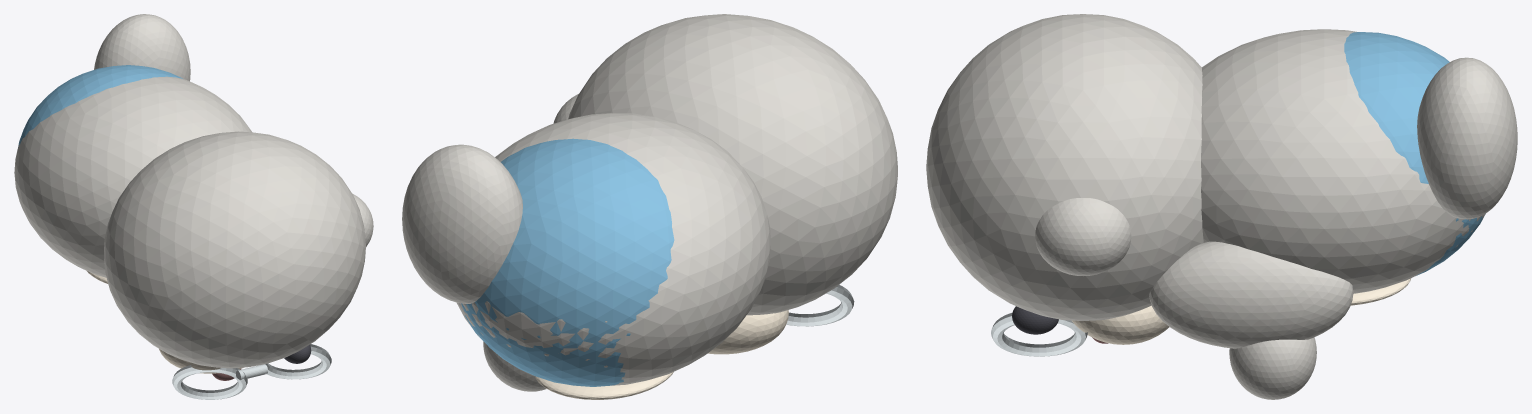
File: nimbus_v1.glb
3 renders of one model, left to right at view 1: azimuth 30°, elevation 25°; view 2: azimuth 150°, elevation 25°; view 3: azimuth 270°, elevation 25°, orthographic. The views are drawn at different scales.
Visible parts, largest first — view 1: Nimbus_head, Nimbus_body, Foot, Blue_racing_suit, Left_round_glasses, Right_round_glasses, Wool_curl, Muzzle, Glasses_bridge; view 2: Nimbus_head, Blue_racing_suit, Nimbus_body, Foot, Muzzle, Chest_patch, Paw, Left_round_glasses; view 3: Nimbus_head, Nimbus_body, Arm, Foot, Blue_racing_suit, Wool_curl, Paw, Muzzle, Right_round_glasses, Eye, Chest_patch.
Boxes of the visible parts, x1,y1,x2,y2 form: Nimbus_head: [104, 131, 365, 368]; Nimbus_body: [14, 76, 251, 277]; Foot: [94, 14, 190, 81]; Blue_racing_suit: [18, 65, 182, 147]; Left_round_glasses: [172, 365, 247, 399]; Right_round_glasses: [258, 344, 331, 379]; Wool_curl: [352, 193, 373, 246]; Muzzle: [159, 349, 244, 373]; Glasses_bridge: [236, 364, 267, 379]; Nimbus_head: [568, 14, 897, 315]; Blue_racing_suit: [461, 138, 674, 386]; Nimbus_body: [457, 113, 770, 385]; Foot: [402, 144, 522, 303]; Muzzle: [708, 310, 788, 354]; Chest_patch: [534, 372, 673, 399]; Paw: [483, 341, 546, 391]; Left_round_glasses: [786, 285, 854, 326]; Nimbus_head: [926, 14, 1203, 320]; Nimbus_body: [1201, 29, 1485, 293]; Arm: [1149, 241, 1353, 348]; Foot: [1417, 57, 1517, 219]; Blue_racing_suit: [1344, 32, 1485, 275]; Wool_curl: [1035, 198, 1131, 275]; Paw: [1229, 337, 1316, 399]; Muzzle: [1072, 305, 1169, 344]; Right_round_glasses: [991, 312, 1087, 356]; Eye: [1012, 306, 1058, 334]; Chest_patch: [1350, 278, 1410, 305].
Size of the model in its own units: 1.01 by 0.96 by 1.62.
